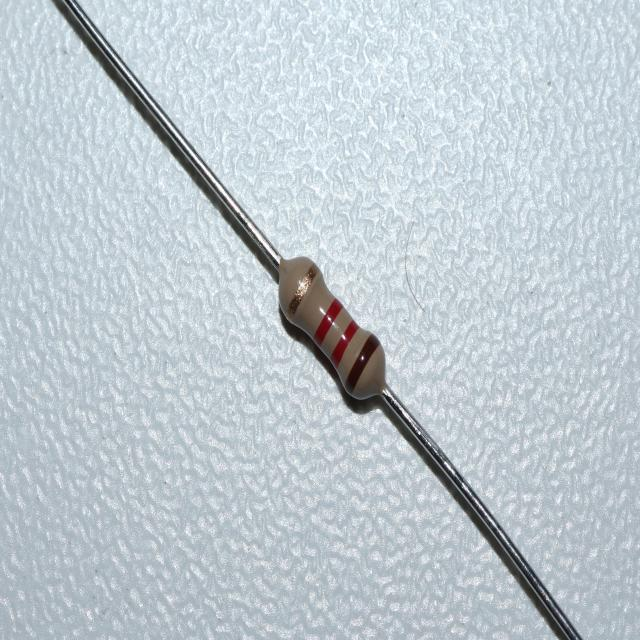resistor: (280, 258, 390, 405)
